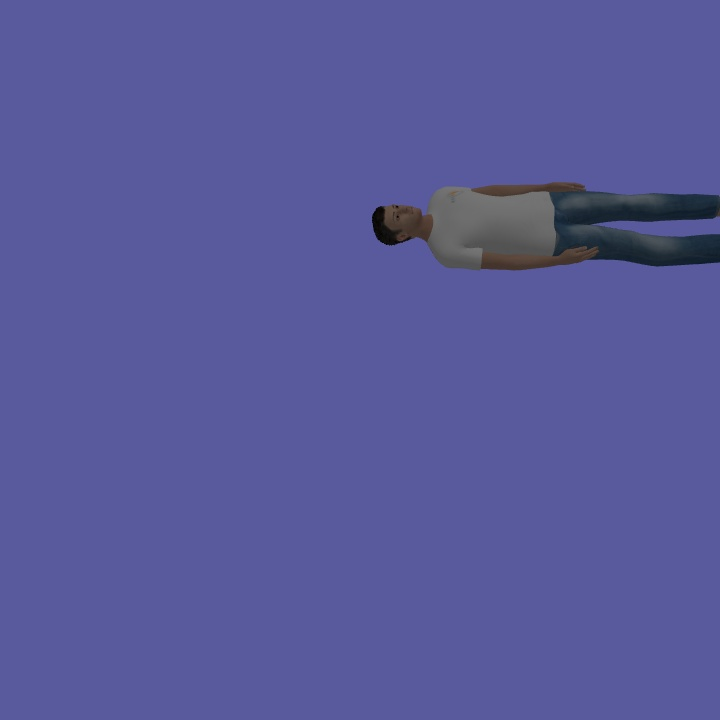victim: (368, 179, 720, 274)
